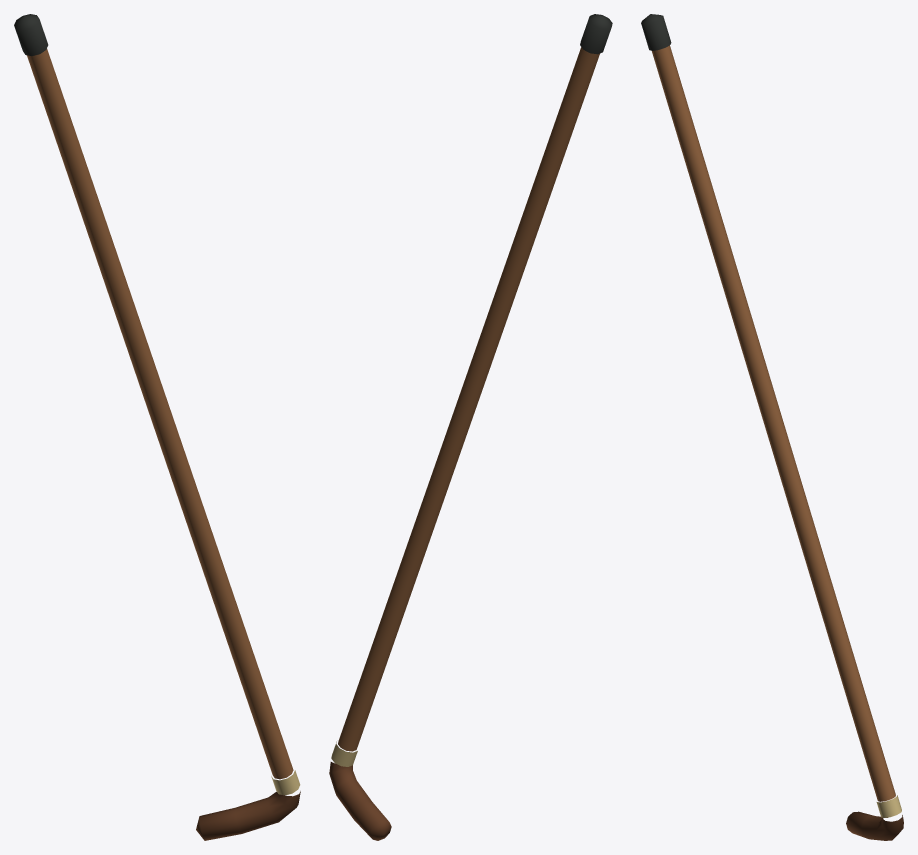
Rendered from old-cane-rafael.glb.
3 views of the same model, side by side, from view 1: azimuth 30°, elevation 25°; view 2: azimuth 150°, elevation 25°; view 3: azimuth 330°, elevation 25° (orthographic). The views are drawn at different scales.
Visible parts, largest first — view 1: Acc_Male_Hand_Cane; view 2: Acc_Male_Hand_Cane; view 3: Acc_Male_Hand_Cane.
Part boxes in pixels (<box>): Acc_Male_Hand_Cane: <box>14,14,300,840</box>; Acc_Male_Hand_Cane: <box>329,14,612,840</box>; Acc_Male_Hand_Cane: <box>641,14,903,840</box>.
Bounding box in the file's own units: 15.91 × 47.16 × 3.73.
